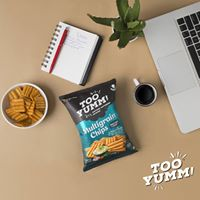plastic: (83, 78, 115, 172)
tooyumm: (145, 154, 193, 188), (77, 92, 108, 120)
wrapper: (62, 90, 136, 153)
